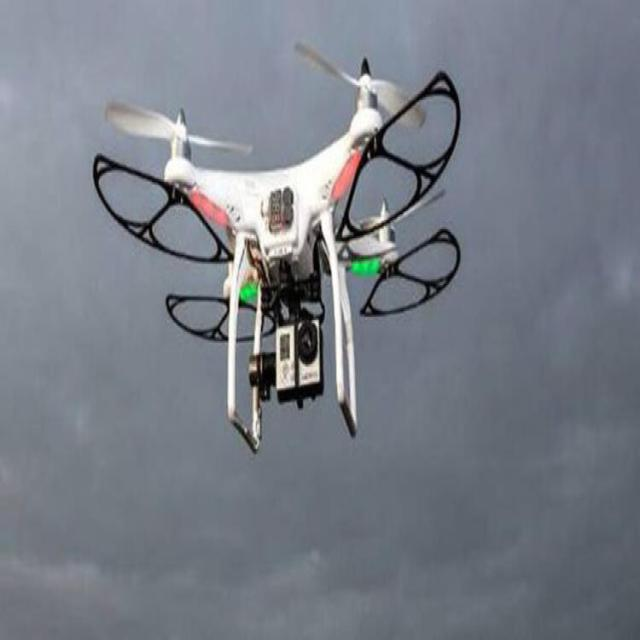drone: (91, 62, 516, 347)
